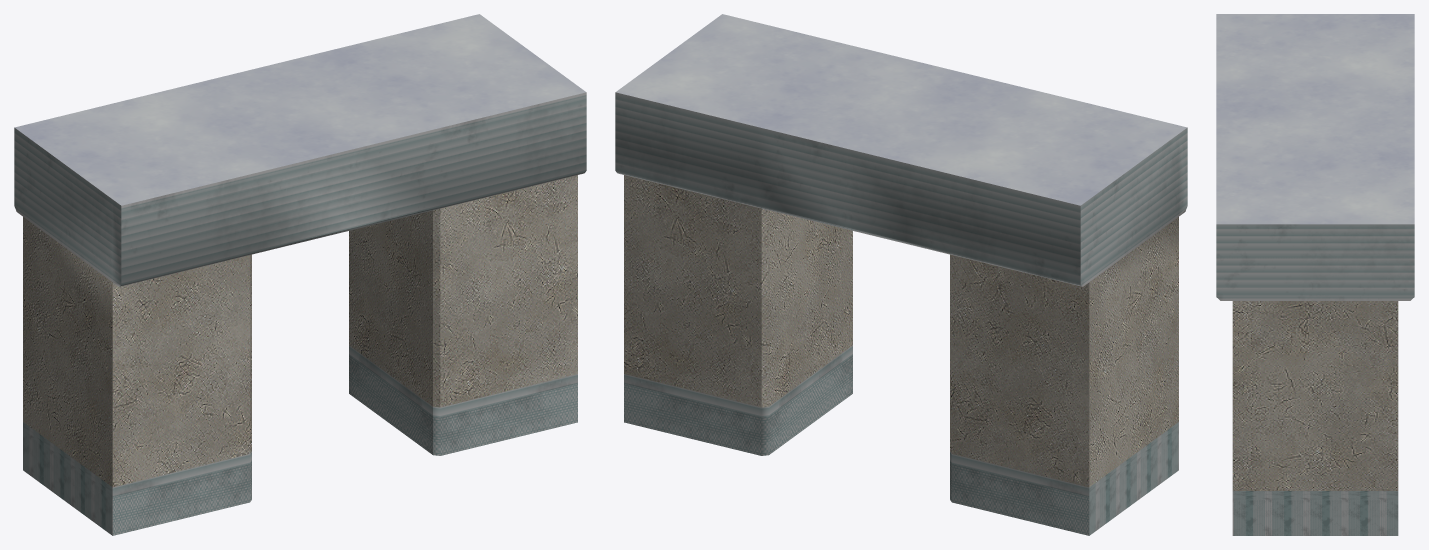
Rendered from MetroSeparator.fbx.
The picture shows the model from 3 angles, left to right: view 1: azimuth 30°, elevation 25°; view 2: azimuth 150°, elevation 25°; view 3: azimuth 270°, elevation 25°; orthographic projection. The views are drawn at different scales.
Parts seen in each view (by area): view 1: MetroSeparator; view 2: MetroSeparator; view 3: MetroSeparator.
Part boxes in pixels (x1=…): MetroSeparator: x1=14, y1=14, x2=586, y2=535; MetroSeparator: x1=615, y1=14, x2=1187, y2=535; MetroSeparator: x1=1216, y1=14, x2=1414, y2=535.
Bounding box in the file's own units: 600 × 415 × 239.
4 materials, 4 textured.
